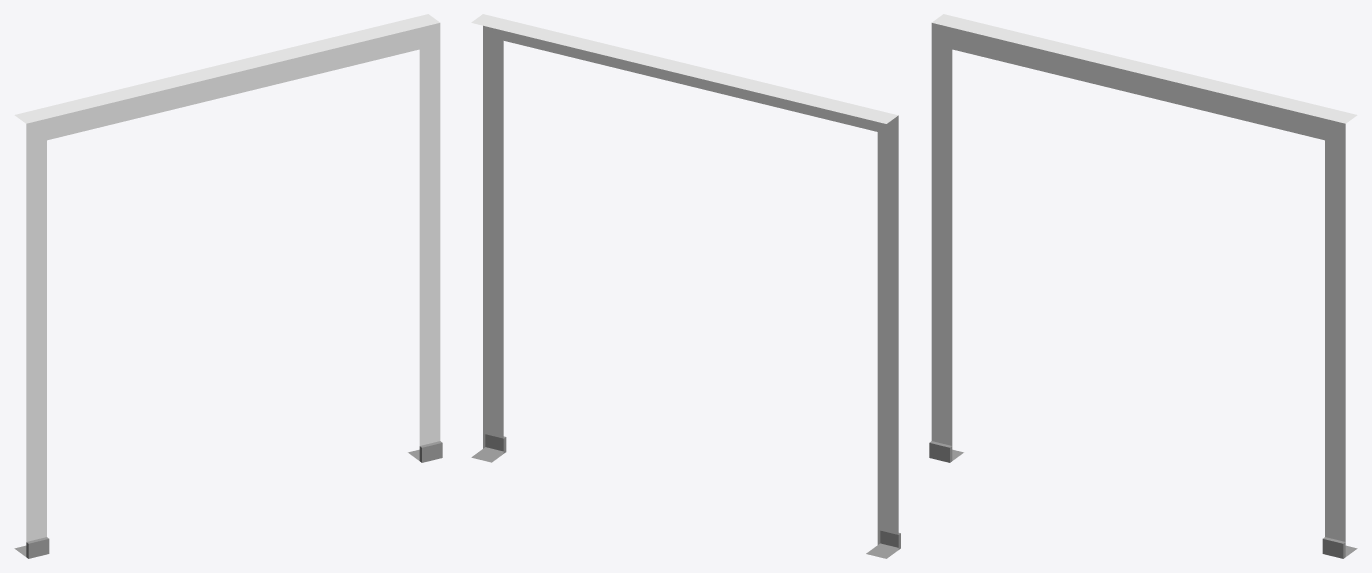
The model's file is Int-V2GarageFrameWhite.fbx.
The picture shows the model from 3 angles, left to right: view 1: azimuth 30°, elevation 25°; view 2: azimuth 150°, elevation 25°; view 3: azimuth 330°, elevation 25°; orthographic projection.
Visible parts, largest first — view 1: Int-V2GarageFrameWhite; view 2: Int-V2GarageFrameWhite; view 3: Int-V2GarageFrameWhite.
Boxes of the visible parts, x1,y1,x2,y2 form: Int-V2GarageFrameWhite: (14, 14, 442, 558); Int-V2GarageFrameWhite: (471, 14, 900, 558); Int-V2GarageFrameWhite: (929, 14, 1357, 558).
Bounding box in the file's own units: 200 × 200 × 12.
